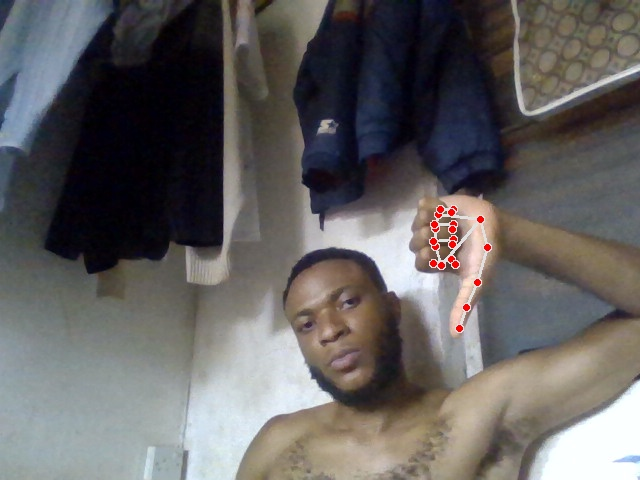thumbsdown: (409, 191, 503, 341)
